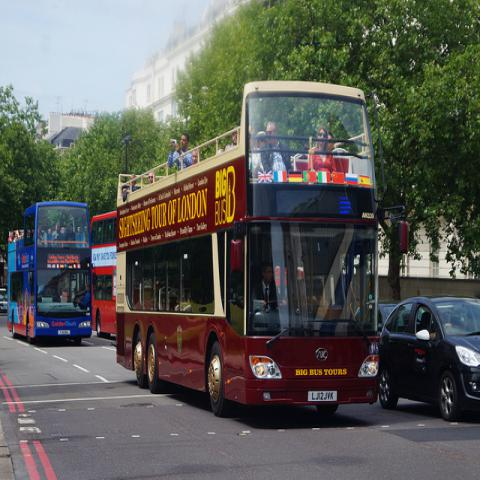bus: (116, 77, 410, 413), (6, 201, 95, 345), (90, 210, 117, 341)
car: (379, 296, 479, 419), (354, 300, 404, 335), (0, 288, 8, 313)
